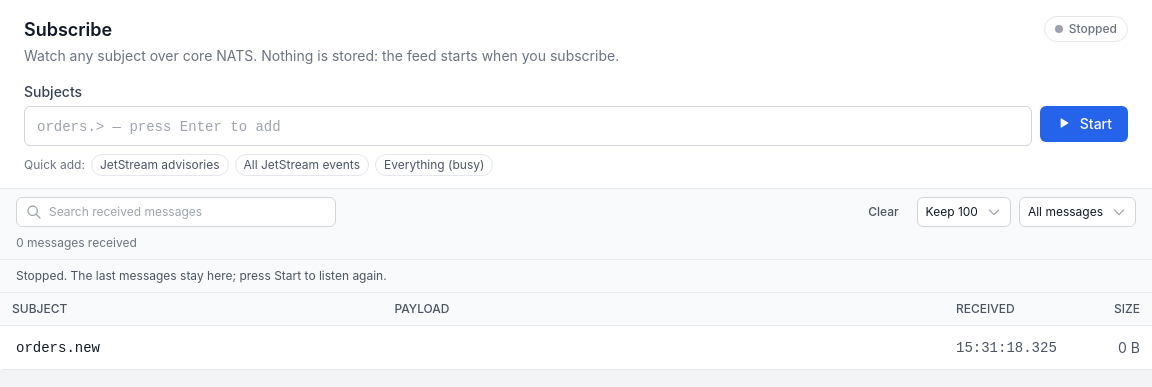
Test case: SubscribePage › shows how many messages wait while paused
Type "orders.>" into the dropdown labelled "Subjects". click: (528, 127)
box: 33,115 -> 1023,139
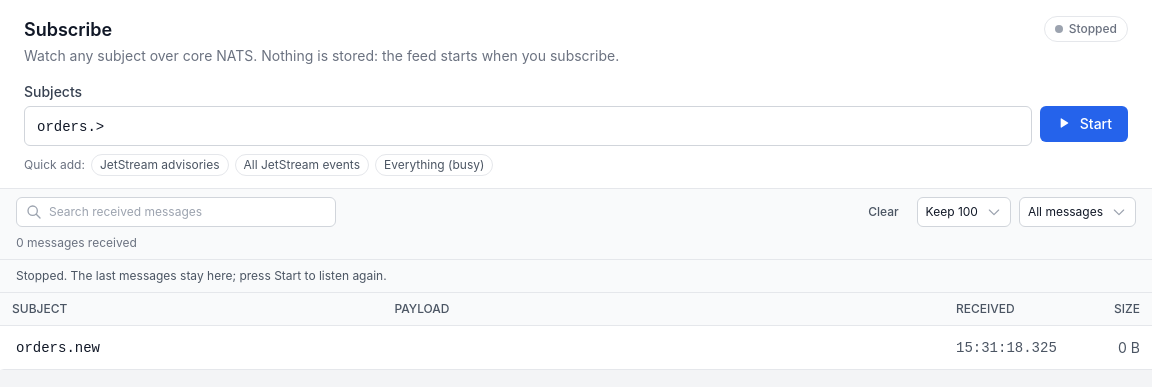
Press Enter in the dropdown labelled "Subjects", box 33,115 -> 1023,139
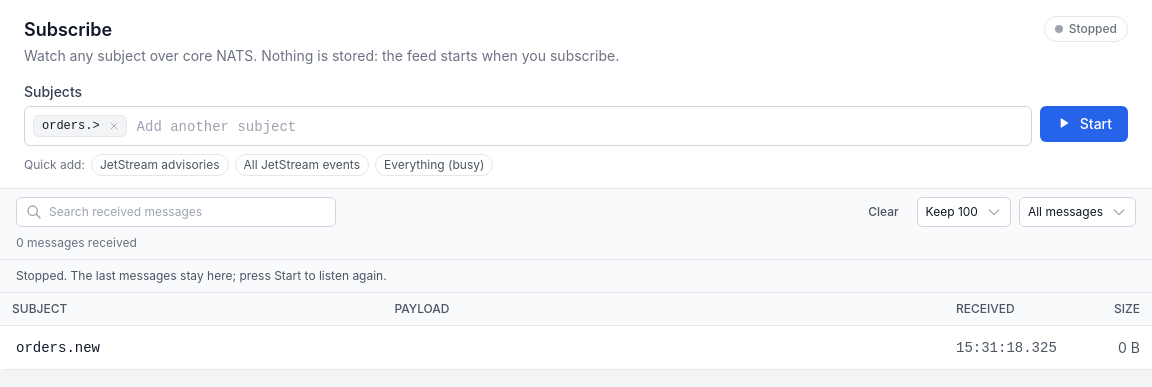
Click the button "Start". click: (1084, 124)
box: 1040,106 -> 1128,142
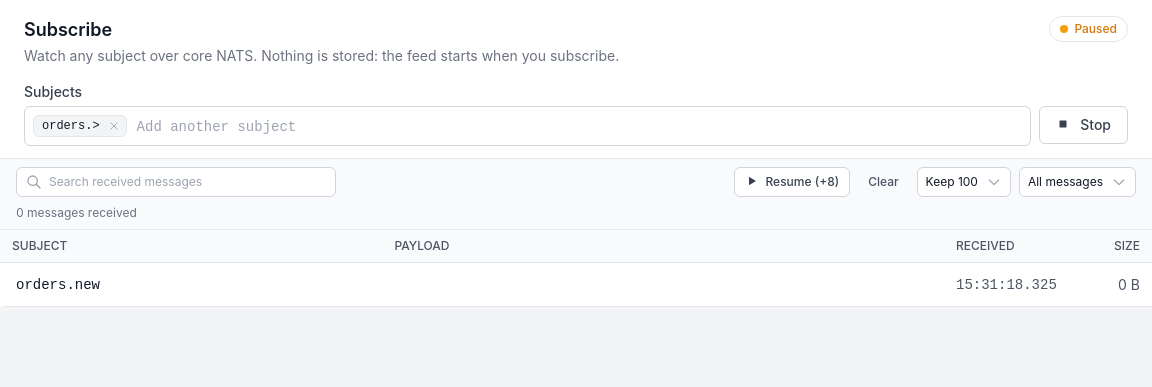
Result: the button "Resume (+8)" is shown at 734,167 -> 850,197
